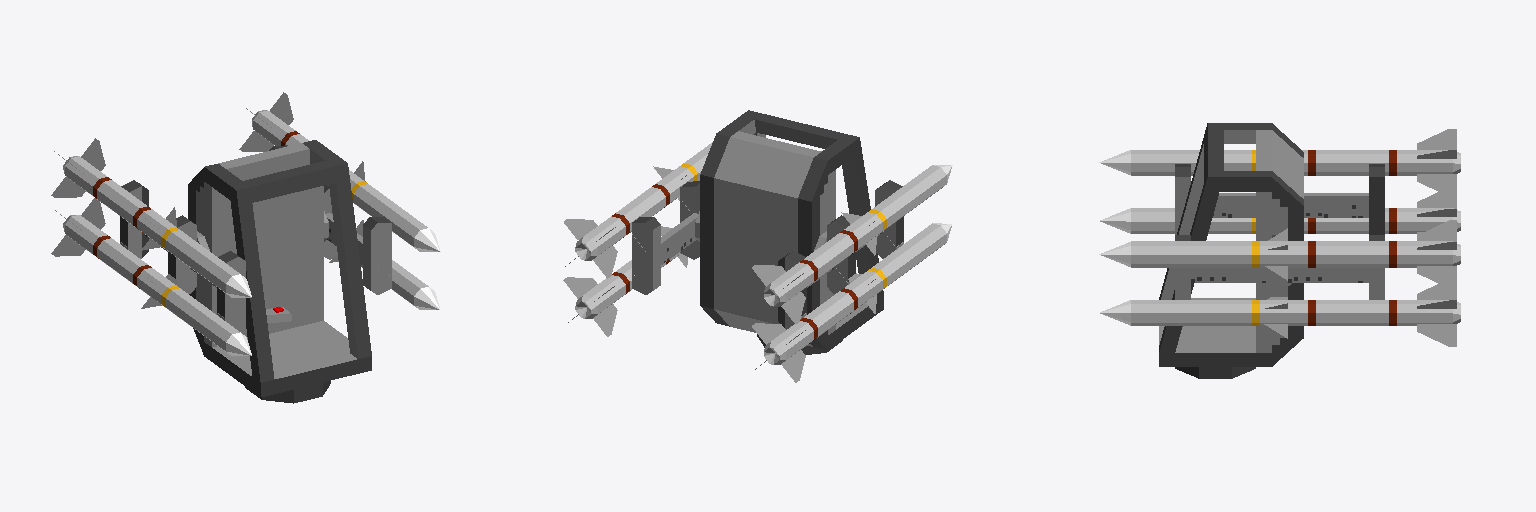
The picture shows the model from 3 angles: view 1: azimuth 30°, elevation 25°; view 2: azimuth 150°, elevation 25°; view 3: azimuth 270°, elevation 25°; orthographic projection.
Parts seen in each view (by area): view 1: cube1, cube8, plane87, cylinder78, cuboid6, cylinder43, cuboid10, cube4, cylinder69, cube2, cube30, cylinder3; view 2: cube2, plane87, cylinder78, cylinder43, cylinder69, cuboid10, cube4, cube1, cube32, cube33, cube8; view 3: cylinder43, cylinder69, plane87, cylinder78, cube2, cube8, cube1, cuboid6, cube25, cuboid10, cube33, cube15 (+7 smaller).
Boxes of the visible parts, x1,y1,x2,y2 form: cube1: [204, 140, 323, 347]; cube8: [204, 321, 371, 397]; plane87: [56, 141, 251, 297]; cylinder78: [55, 201, 251, 355]; cuboid6: [327, 157, 371, 358]; cylinder43: [244, 95, 440, 251]; cuboid10: [228, 181, 274, 382]; cube4: [243, 161, 335, 202]; cylinder69: [329, 220, 439, 309]; cube2: [188, 168, 203, 354]; cube30: [363, 217, 377, 294]; cylinder3: [245, 381, 330, 403]; cube2: [700, 134, 827, 349]; plane87: [756, 165, 952, 321]; cylinder78: [756, 223, 951, 379]; cylinder43: [568, 142, 712, 275]; cylinder69: [567, 226, 687, 333]; cuboid10: [838, 134, 883, 299]; cube4: [754, 114, 844, 148]; cube1: [716, 128, 835, 334]; cube32: [646, 217, 660, 294]; cube33: [661, 213, 697, 264]; cube8: [828, 295, 883, 349]; cylinder43: [1099, 221, 1460, 287]; cylinder69: [1100, 284, 1460, 346]; plane87: [1099, 129, 1460, 195]; cylinder78: [1100, 192, 1460, 233]; cube2: [1272, 123, 1303, 366]; cube8: [1159, 298, 1271, 366]; cube1: [1256, 123, 1271, 352]; cuboid6: [1159, 171, 1223, 352]; cube25: [1304, 193, 1368, 217]; cuboid10: [1159, 123, 1223, 299]; cube33: [1288, 268, 1368, 282]; cube15: [1191, 268, 1271, 282].
Bounding box in the file's own units: 2.09 × 1.81 × 2.81.
Materials: 9 (9 with a texture image).